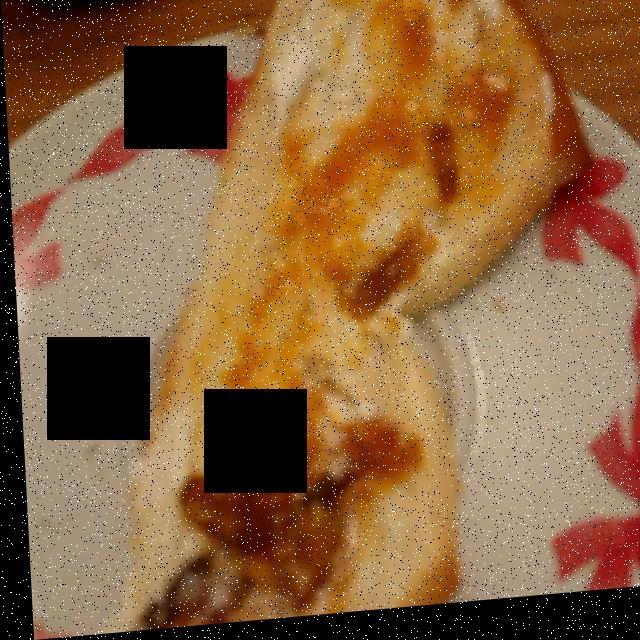bread: (132, 0, 582, 616)
jam: (134, 0, 589, 604)
